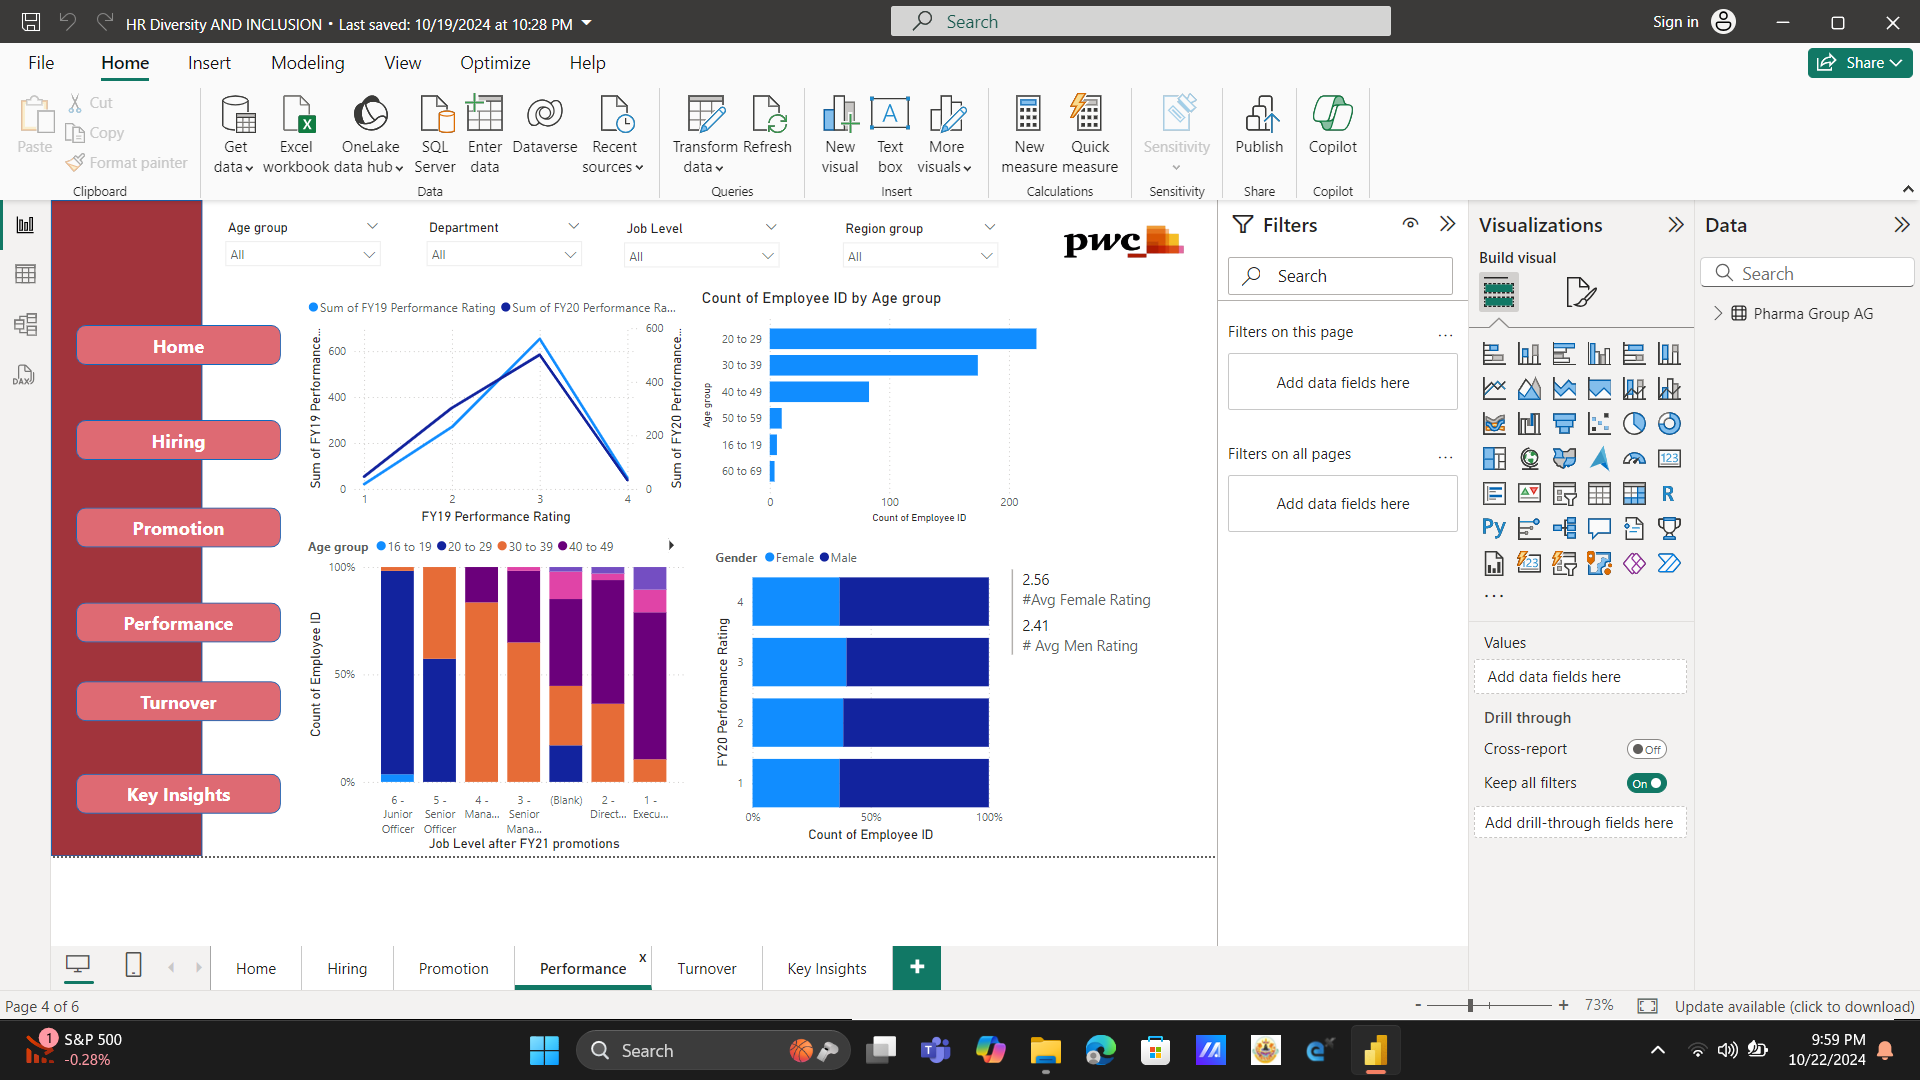

The dashboard page shown, as its layout file describes it:
{"tool":"powerbi","page":{"name":"Performance","canvas":[1280,720],"ordinal":3},"visuals":[{"type":"shape","box":[0,0,166,720.4],"z":0},{"type":"shape","box":[27.4,137.2,225,43.9],"z":1000},{"type":"shape","box":[27.4,241.5,225,43.9],"z":2000},{"type":"shape","box":[27.4,337.6,225,43.9],"z":3000},{"type":"shape","box":[27.4,528.3,225,43.9],"z":4000},{"type":"shape","box":[27.4,629.8,225,43.9],"z":5000},{"type":"image","box":[1103.3,0,149.6,91.9],"z":6000},{"type":"shape","box":[27.4,441.9,225,43.9],"z":7000},{"type":"slicer","fields":{"Values":["Pharma Group AG.Region group: nationality 1"]},"box":[859,17.8,190.7,61.7],"z":8000},{"type":"slicer","fields":{"Values":["Pharma Group AG.Age group"]},"box":[181.1,16.5,190.7,75.5],"z":9000},{"type":"slicer","fields":{"Values":["Pharma Group AG.Last Department in FY20"]},"box":[402.1,16.5,190.7,61.7],"z":10000},{"type":"slicer","fields":{"Values":["Pharma Group AG.Job Level before FY20 promotions"]},"box":[618.9,17.8,190.7,61.7],"z":11000},{"type":"lineChart","fields":{"Category":["Pharma Group AG.FY19 Performance Rating"],"Y2":["Sum(Pharma Group AG.FY20 Performance Rating)"],"Y":["Sum(Pharma Group AG.FY19 Performance Rating)"]},"box":[277.2,97.4,422.6,263.5],"z":12000},{"type":"barChart","fields":{"Y":["CountNonNull(Pharma Group AG.Employee ID)"],"Category":["Pharma Group AG.Age group"]},"box":[710,97,423,263],"z":13000},{"type":"hundredPercentStackedColumnChart","fields":{"Category":["Pharma Group AG.Job Level after FY21 promotions"],"Series":["Pharma Group AG.Age group"],"Y":["CountNonNull(Pharma Group AG.Employee ID)"]},"box":[277,360,423,360],"z":14000},{"type":"hundredPercentStackedBarChart","fields":{"Category":["Pharma Group AG.FY20 Performance Rating"],"Y":["CountNonNull(Pharma Group AG.Employee ID)"],"Series":["Pharma Group AG.Gender"]},"box":[724.5,371.9,325.2,337.6],"z":15000},{"type":"multiRowCard","fields":{"Values":["Pharma Group AG.#Avg Female Rating","Pharma Group AG.# Avg Men Rating"]},"box":[1049.7,400.7,225,126.2],"z":16000}]}

Visuals, with their boxes on the page's 1280x720 design canvas (x1, y1, x2, y2). These are canvas units, not pixel positions in the 1920x1080 screenshot, which may show the page scaled, cropped or inside an application window:
shape: detection(0, 0, 166, 720)
shape: detection(27, 137, 252, 181)
shape: detection(27, 242, 252, 285)
shape: detection(27, 338, 252, 382)
shape: detection(27, 528, 252, 572)
shape: detection(27, 630, 252, 674)
image: detection(1103, 0, 1253, 92)
shape: detection(27, 442, 252, 486)
slicer - Pharma Group AG.Region group: nationality 1: detection(859, 18, 1050, 80)
slicer - Pharma Group AG.Age group: detection(181, 16, 372, 92)
slicer - Pharma Group AG.Last Department in FY20: detection(402, 16, 593, 78)
slicer - Pharma Group AG.Job Level before FY20 promotions: detection(619, 18, 810, 80)
lineChart - Pharma Group AG.FY19 Performance Rating x Sum(Pharma Group AG.FY20 Performance Rating): detection(277, 97, 700, 361)
barChart - CountNonNull(Pharma Group AG.Employee ID) x Pharma Group AG.Age group: detection(710, 97, 1133, 360)
hundredPercentStackedColumnChart - Pharma Group AG.Job Level after FY21 promotions x Pharma Group AG.Age group: detection(277, 360, 700, 720)
hundredPercentStackedBarChart - Pharma Group AG.FY20 Performance Rating x CountNonNull(Pharma Group AG.Employee ID): detection(724, 372, 1050, 710)
multiRowCard - Pharma Group AG.#Avg Female Rating x Pharma Group AG.# Avg Men Rating: detection(1050, 401, 1275, 527)
